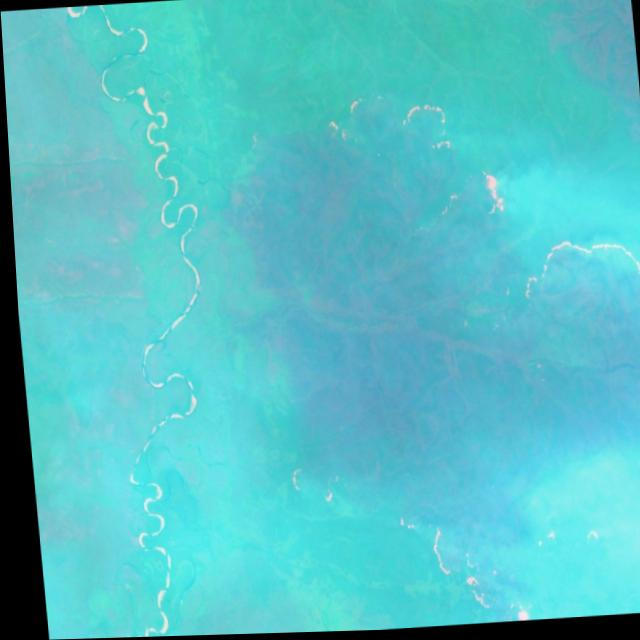fire: (318, 67, 640, 336), (407, 500, 603, 629)
